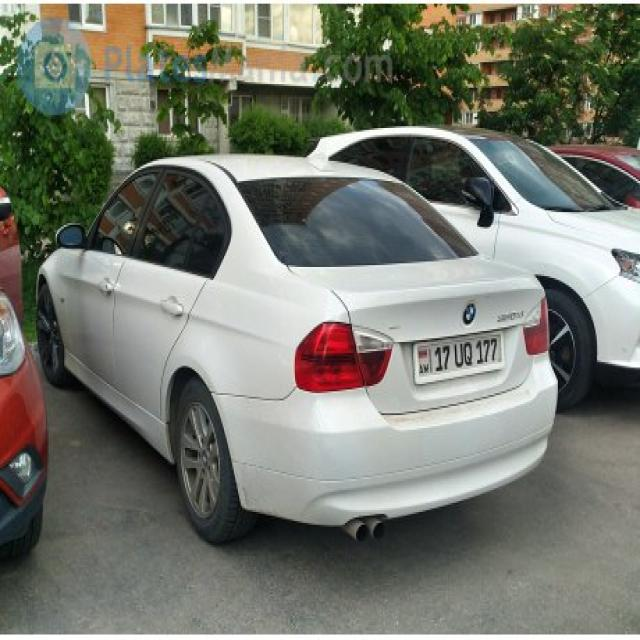license: (404, 332, 517, 384)
